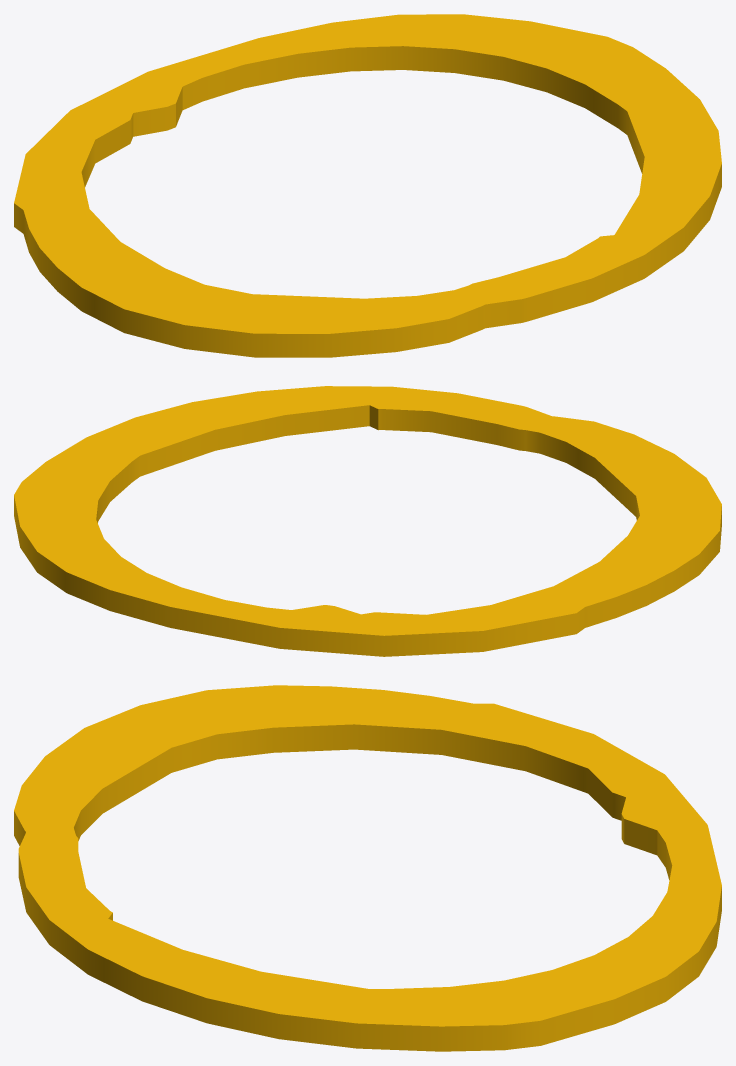
File: original-412.obj
3 renders of one model, top to bottom at view 1: azimuth 30°, elevation 25°; view 2: azimuth 150°, elevation 25°; view 3: azimuth 270°, elevation 25°, orthographic. The views are drawn at different scales.
Visible parts, largest first — view 1: mesh2/mesh2-geometry#mesh2-geometry; view 2: mesh2/mesh2-geometry#mesh2-geometry; view 3: mesh2/mesh2-geometry#mesh2-geometry.
Boxes of the visible parts, box(x1,y1,x2,y2) form: mesh2/mesh2-geometry#mesh2-geometry: box(14, 14, 721, 357); mesh2/mesh2-geometry#mesh2-geometry: box(14, 386, 721, 656); mesh2/mesh2-geometry#mesh2-geometry: box(14, 685, 721, 1051).
Size of the model in its own units: 0.0132 by 0.000452 by 0.0115.
